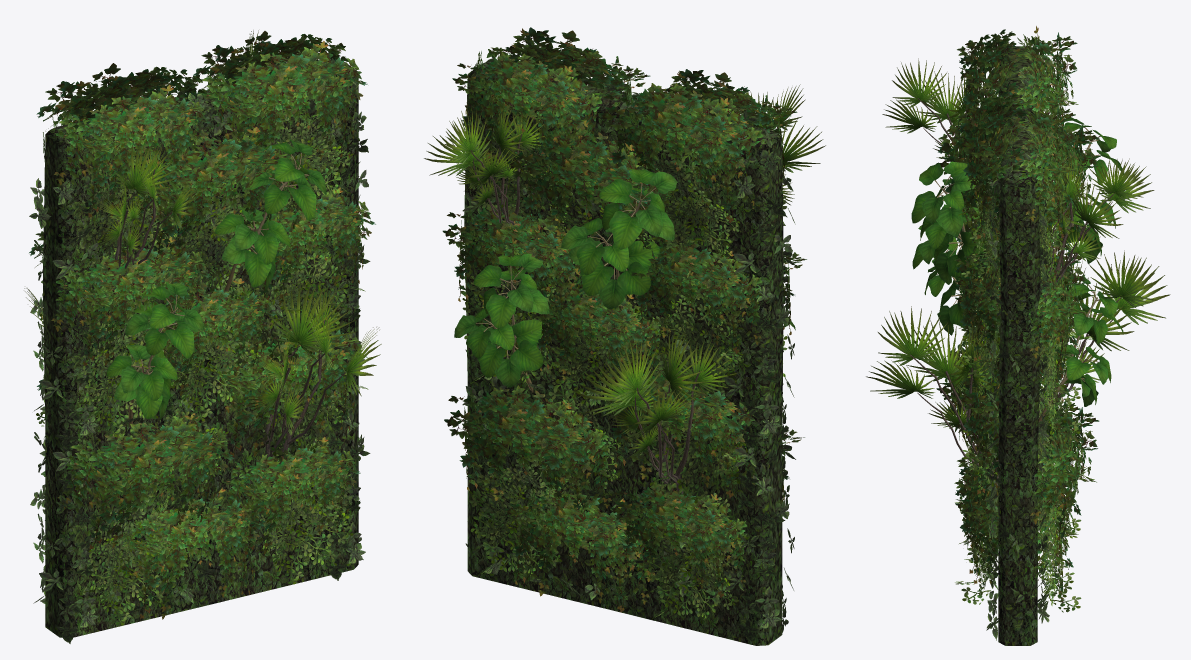
The model's file is partition.fbx.
3 renders of one model, left to right at view 1: azimuth 30°, elevation 25°; view 2: azimuth 150°, elevation 25°; view 3: azimuth 270°, elevation 25°, orthographic. The views are drawn at different scales.
Visible parts, largest first — view 1: fun_b0_m0742 Part 3.15, fun_b0_m0742 Part 0.4, fun_b0_m0742 Part 2.13, fun_b0_m0742 Part 4.34, fun_b0_m0742 Part 4.23, fun_b0_m0742 Part 1.15, fun_b0_m0742 Part 4.13, fun_b0_m0742 Part 3.14, fun_b0_m0742 Part 1.0, fun_b0_m0742 Part 4.15, fun_b0_m0742 Part 3.7, fun_b0_m0742 Part 2.1 (+23 smaller); view 2: fun_b0_m0742 Part 3.15, fun_b0_m0742 Part 0.4, fun_b0_m0742 Part 2.13, fun_b0_m0742 Part 4.34, fun_b0_m0742 Part 4.17, fun_b0_m0742 Part 4.9, fun_b0_m0742 Part 3.12, fun_b0_m0742 Part 1.15, fun_b0_m0742 Part 3.14, fun_b0_m0742 Part 1.6, fun_b0_m0742 Part 1.0, fun_b0_m0742 Part 1.3 (+22 smaller); view 3: fun_b0_m0742 Part 3.15, fun_b0_m0742 Part 0.4, fun_b0_m0742 Part 4.34, fun_b0_m0742 Part 2.13, fun_b0_m0742 Part 4.15, fun_b0_m0742 Part 4.7, fun_b0_m0742 Part 4.23, fun_b0_m0742 Part 4.31, fun_b0_m0742 Part 4.9, fun_b0_m0742 Part 4.27, fun_b0_m0742 Part 3.14, fun_b0_m0742 Part 1.15 (+18 smaller).
Part boxes in pixels (box(x1,y1,x2,y2)): fun_b0_m0742 Part 3.15: box(29, 34, 375, 619); fun_b0_m0742 Part 0.4: box(42, 59, 358, 637); fun_b0_m0742 Part 2.13: box(36, 107, 368, 625); fun_b0_m0742 Part 4.34: box(96, 77, 356, 456); fun_b0_m0742 Part 4.23: box(176, 181, 308, 290); fun_b0_m0742 Part 1.15: box(30, 99, 370, 607); fun_b0_m0742 Part 4.13: box(114, 322, 186, 420); fun_b0_m0742 Part 3.14: box(251, 31, 361, 141); fun_b0_m0742 Part 1.0: box(33, 542, 143, 643); fun_b0_m0742 Part 4.15: box(305, 305, 381, 396); fun_b0_m0742 Part 3.7: box(170, 298, 264, 388); fun_b0_m0742 Part 2.1: box(285, 500, 345, 572); fun_b0_m0742 Part 3.15: box(442, 30, 806, 612); fun_b0_m0742 Part 0.4: box(464, 61, 783, 645); fun_b0_m0742 Part 2.13: box(462, 113, 787, 623); fun_b0_m0742 Part 4.34: box(424, 91, 825, 478); fun_b0_m0742 Part 4.17: box(561, 201, 636, 307); fun_b0_m0742 Part 4.9: box(454, 287, 527, 387); fun_b0_m0742 Part 3.12: box(690, 87, 792, 205); fun_b0_m0742 Part 1.15: box(465, 78, 794, 569); fun_b0_m0742 Part 3.14: box(457, 27, 578, 119); fun_b0_m0742 Part 1.6: box(675, 334, 794, 434); fun_b0_m0742 Part 1.0: box(675, 566, 793, 642); fun_b0_m0742 Part 1.3: box(689, 435, 795, 526); fun_b0_m0742 Part 3.15: box(936, 29, 1099, 601); fun_b0_m0742 Part 0.4: box(998, 46, 1040, 645); fun_b0_m0742 Part 4.34: box(878, 71, 1158, 471); fun_b0_m0742 Part 2.13: box(955, 87, 1081, 612); fun_b0_m0742 Part 4.15: box(866, 321, 953, 416); fun_b0_m0742 Part 4.7: box(1082, 257, 1170, 344); fun_b0_m0742 Part 4.23: box(911, 186, 963, 284); fun_b0_m0742 Part 4.31: box(882, 58, 946, 130); fun_b0_m0742 Part 4.9: box(1073, 311, 1123, 406); fun_b0_m0742 Part 4.27: box(1088, 158, 1154, 208); fun_b0_m0742 Part 3.14: box(971, 116, 1062, 223); fun_b0_m0742 Part 1.15: box(984, 67, 1049, 567).
Bounding box in the file's own units: 4.67 × 7.39 × 4.01.
5 materials, 5 textured.
